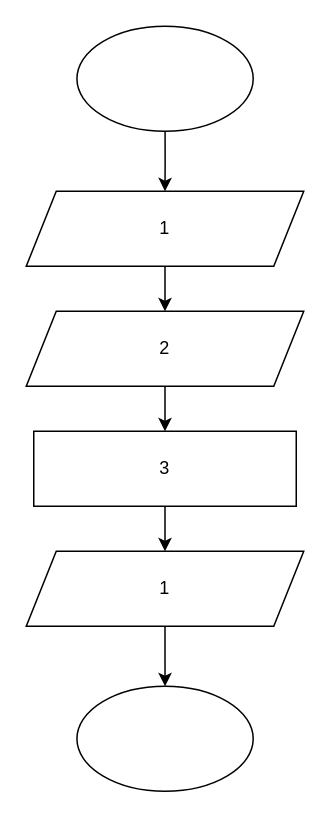
Some shapes in this 330 by 818 pixel diagram are drawn without their labels. Each missing label, with the centre of its shape:
END: the point at 164,738
START: the point at 164,78
